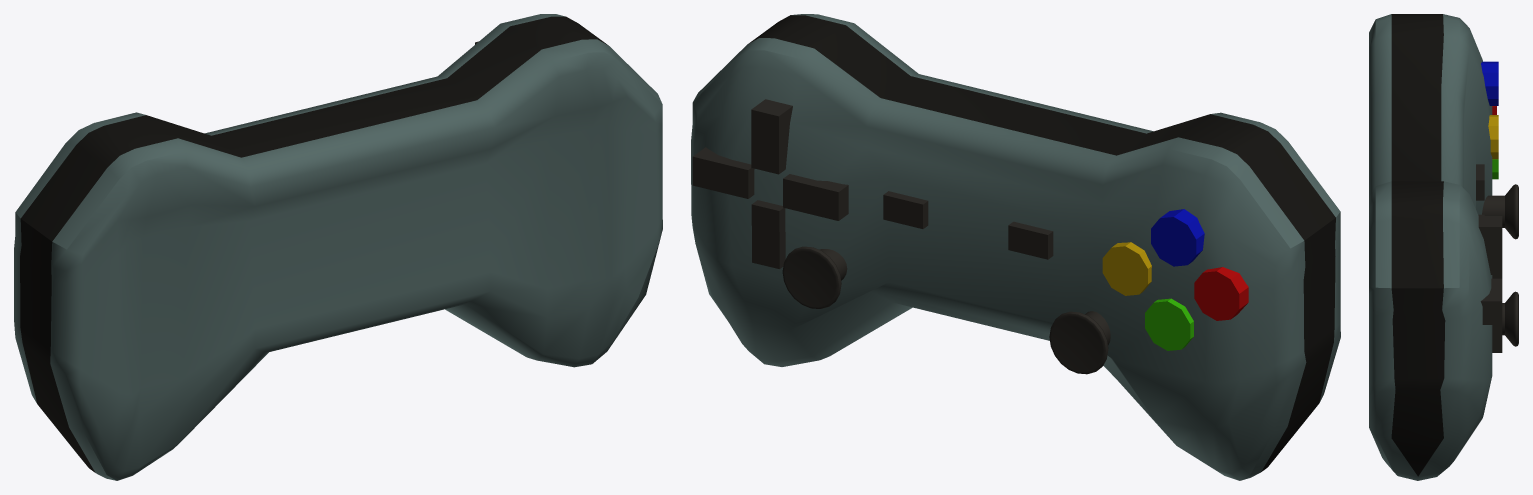
The model's file is Game Controller.fbx.
3 views of the same model, side by side, from view 1: azimuth 30°, elevation 25°; view 2: azimuth 150°, elevation 25°; view 3: azimuth 270°, elevation 25° (orthographic). The views are drawn at different scales.
Parts seen in each view (by area): view 1: pasted__pCube20; view 2: pasted__pCube20; view 3: pasted__pCube20.
Boxes of the visible parts, box(x1,y1,x2,y2) form: pasted__pCube20: box(14, 14, 662, 480); pasted__pCube20: box(691, 14, 1340, 480); pasted__pCube20: box(1369, 14, 1518, 480).
Size of the model in its own units: 0.5936 by 0.3157 by 0.154.
